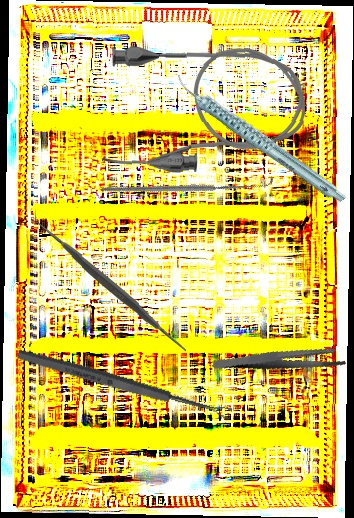Cannula: (97, 40, 308, 176)
Dressing Forceps: (211, 324, 349, 396)
Handpiece: (173, 43, 349, 232)
Hook Surgical: (99, 106, 275, 263)
Spatula Surgical: (32, 208, 189, 362)
Surgical Spoon: (16, 346, 233, 423)
